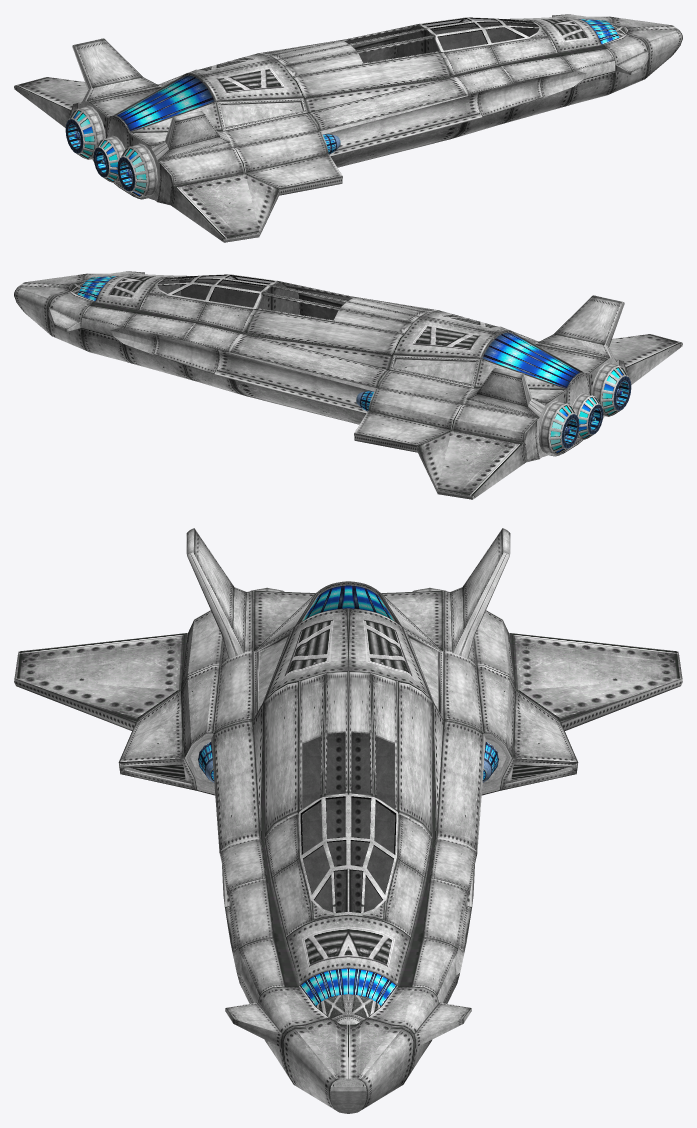
File: shuttle 2.obj
3 renders of one model, top to bottom at view 1: azimuth 30°, elevation 25°; view 2: azimuth 150°, elevation 25°; view 3: azimuth 270°, elevation 25°, orthographic. The views are drawn at different scales.
Size of the model in its own units: 19.47 by 3.87 by 12.46.
6 materials, 4 textured.
